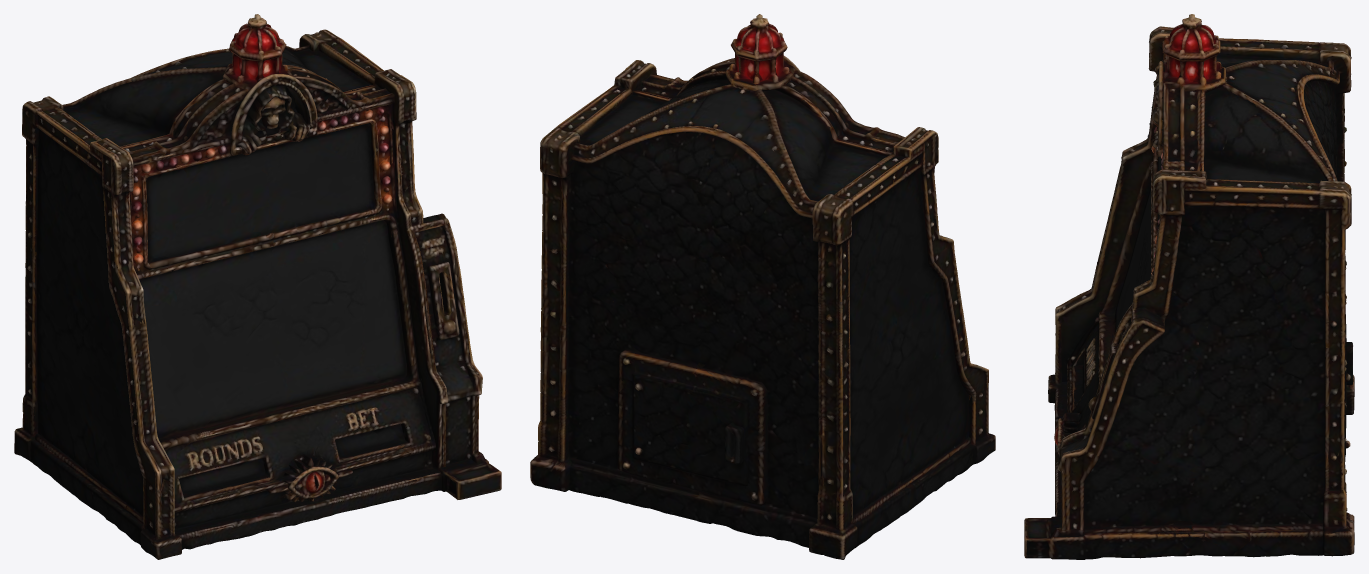
Rendered from slotmachine.glb.
3 views of the same model, side by side, from view 1: azimuth 30°, elevation 25°; view 2: azimuth 150°, elevation 25°; view 3: azimuth 270°, elevation 25° (orthographic). The views are drawn at different scales.
Parts seen in each view (by area): view 1: tripo_node_ece11abb-569b-4043-b7eb-a6de79d207d4; view 2: tripo_node_ece11abb-569b-4043-b7eb-a6de79d207d4; view 3: tripo_node_ece11abb-569b-4043-b7eb-a6de79d207d4.
Part boxes in pixels (x1,y1,x2,y2): tripo_node_ece11abb-569b-4043-b7eb-a6de79d207d4: (14,14,501,559); tripo_node_ece11abb-569b-4043-b7eb-a6de79d207d4: (530,14,995,559); tripo_node_ece11abb-569b-4043-b7eb-a6de79d207d4: (1024,14,1354,559).
Bounding box in the file's own units: 0.7646 × 1 × 0.6406.
1 material, 1 textured.
